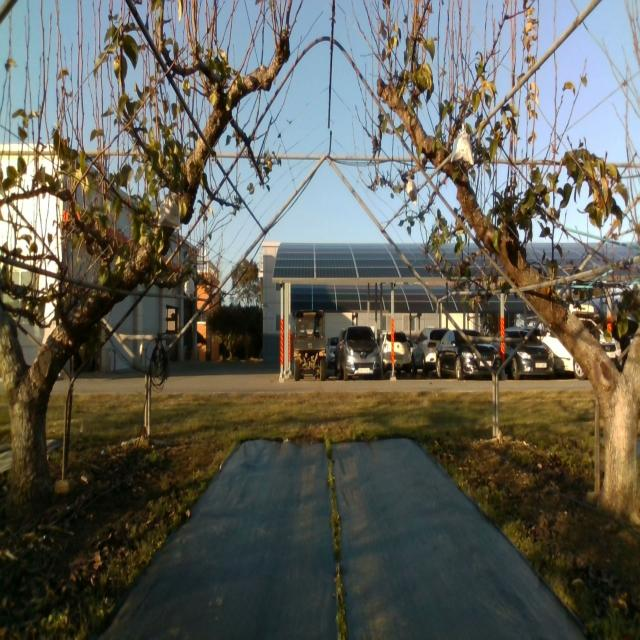pearbags: (158, 190, 180, 232), (451, 127, 474, 166), (407, 178, 418, 206)
